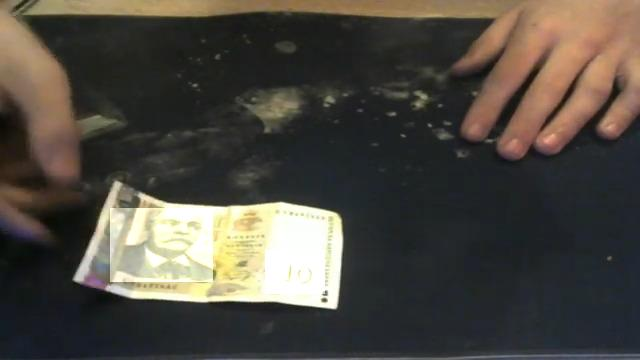10leva: (111, 209, 213, 282), (266, 251, 325, 294)
